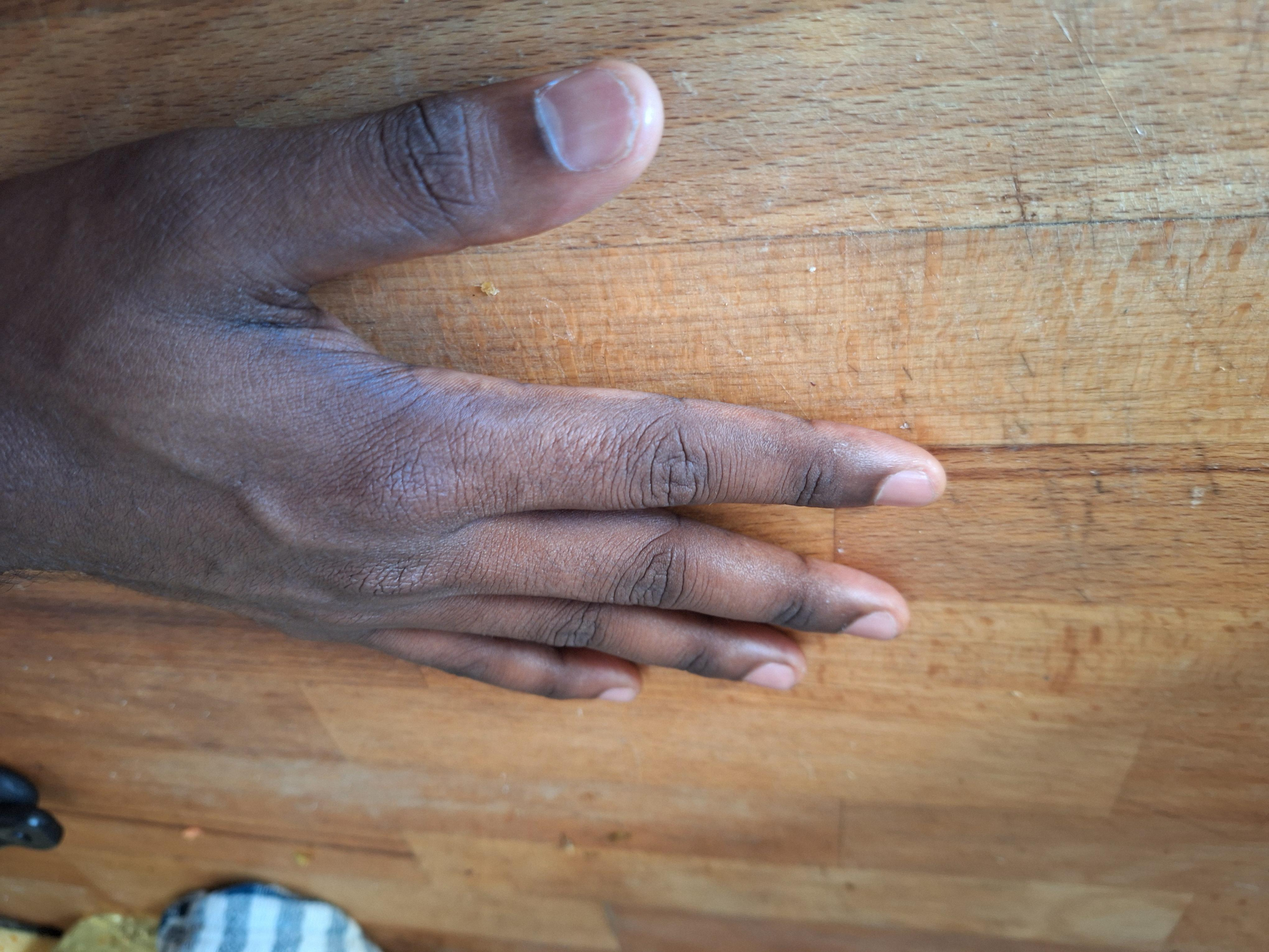Fingernail: (538, 68, 641, 173), (873, 468, 938, 508), (842, 612, 898, 640), (746, 662, 794, 690), (602, 687, 637, 703)
